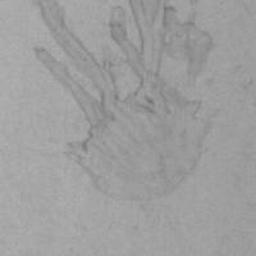Water spot: (31, 0, 220, 204)
